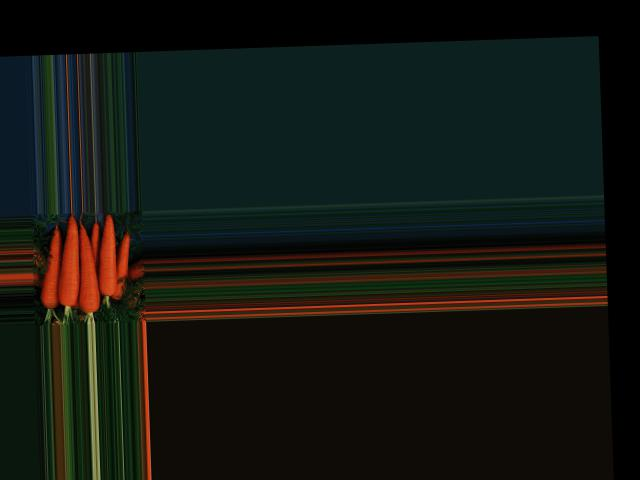carrot: (94, 216, 123, 300)
